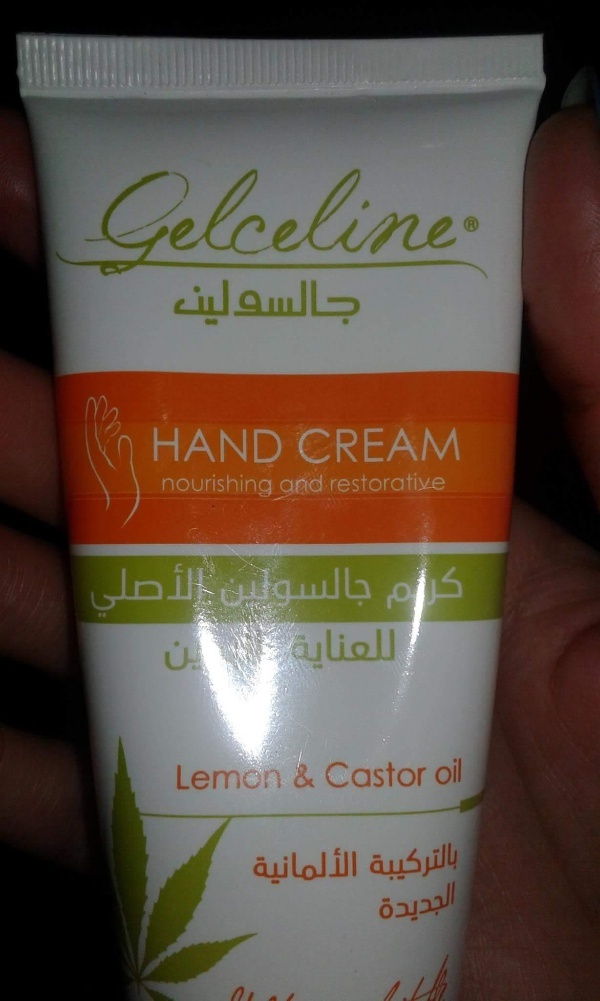text: (113, 168, 128, 279), (129, 168, 144, 279), (145, 168, 160, 279), (161, 168, 176, 279), (177, 168, 192, 279), (193, 168, 208, 279), (209, 168, 224, 279), (225, 168, 240, 279), (241, 168, 256, 279), (257, 168, 272, 279), (273, 168, 288, 279), (289, 168, 304, 279), (305, 168, 320, 279), (321, 168, 336, 279), (337, 168, 352, 279), (353, 168, 368, 279), (369, 168, 384, 279), (385, 168, 400, 279), (401, 168, 416, 279), (417, 168, 432, 279), (433, 168, 448, 279), (449, 168, 460, 279), (102, 168, 112, 279), (97, 563, 112, 618), (113, 563, 128, 618), (129, 563, 144, 618), (145, 563, 160, 618), (161, 563, 176, 618), (177, 563, 192, 618), (385, 881, 400, 934), (401, 881, 416, 934), (417, 881, 432, 934), (433, 881, 448, 934), (177, 280, 192, 326), (193, 280, 208, 326), (209, 280, 224, 326), (225, 280, 240, 326), (241, 280, 256, 326), (257, 280, 272, 326), (273, 280, 288, 326), (289, 280, 304, 326), (305, 280, 320, 326), (321, 280, 336, 326), (337, 280, 352, 326), (401, 566, 416, 612), (417, 566, 432, 612), (433, 566, 448, 612), (449, 566, 464, 612), (369, 842, 384, 886), (385, 842, 400, 886), (401, 842, 416, 886), (417, 842, 432, 886), (433, 842, 448, 886), (305, 629, 320, 672), (321, 629, 336, 672), (337, 629, 352, 672), (353, 629, 368, 672), (369, 629, 384, 672), (386, 566, 400, 612), (225, 567, 240, 609), (241, 567, 256, 609), (257, 567, 272, 609), (273, 567, 288, 609), (289, 567, 304, 609), (305, 567, 320, 609), (321, 567, 336, 609), (337, 567, 352, 609), (353, 567, 368, 609), (193, 563, 204, 618), (257, 848, 272, 886), (273, 848, 288, 886), (289, 848, 304, 886), (305, 848, 320, 886), (321, 848, 336, 886), (337, 848, 352, 886), (161, 427, 176, 464), (177, 427, 192, 464), (193, 427, 208, 464), (209, 427, 224, 464), (225, 427, 240, 464), (241, 427, 256, 464), (257, 427, 272, 464), (305, 428, 320, 465), (321, 428, 336, 465), (337, 428, 352, 465), (353, 428, 368, 465), (369, 428, 384, 465), (385, 428, 400, 465), (401, 428, 416, 465), (417, 428, 432, 465), (433, 428, 448, 465), (292, 629, 304, 672), (177, 641, 192, 673), (385, 629, 396, 672), (449, 428, 461, 465), (449, 842, 459, 886), (449, 881, 457, 934), (177, 763, 192, 791), (193, 763, 208, 791), (209, 763, 224, 791), (225, 763, 240, 791), (241, 763, 256, 791), (257, 763, 272, 791), (337, 761, 352, 789), (353, 761, 368, 789), (369, 761, 384, 789), (385, 761, 400, 789), (401, 761, 416, 789), (449, 758, 463, 787), (164, 641, 176, 673), (435, 758, 448, 787), (177, 474, 192, 499), (193, 474, 208, 499), (209, 474, 224, 499), (225, 474, 240, 499), (241, 474, 256, 499), (257, 474, 272, 499), (273, 427, 283, 464), (353, 280, 361, 326), (162, 474, 176, 499), (90, 563, 96, 618), (193, 641, 203, 673), (337, 473, 352, 494), (353, 473, 368, 494), (369, 473, 384, 494), (385, 473, 400, 494), (401, 473, 416, 494), (417, 473, 432, 494), (417, 761, 428, 789), (289, 474, 304, 494), (305, 474, 320, 494), (326, 761, 336, 789), (433, 473, 446, 494), (379, 881, 384, 934), (153, 427, 160, 464), (273, 763, 282, 791), (294, 764, 304, 789), (305, 764, 315, 789), (298, 428, 304, 465), (219, 567, 224, 609), (353, 848, 358, 886), (279, 474, 288, 494), (467, 218, 480, 231), (330, 473, 336, 494), (369, 567, 372, 609), (174, 280, 176, 326), (254, 848, 256, 886), (321, 474, 323, 494)
